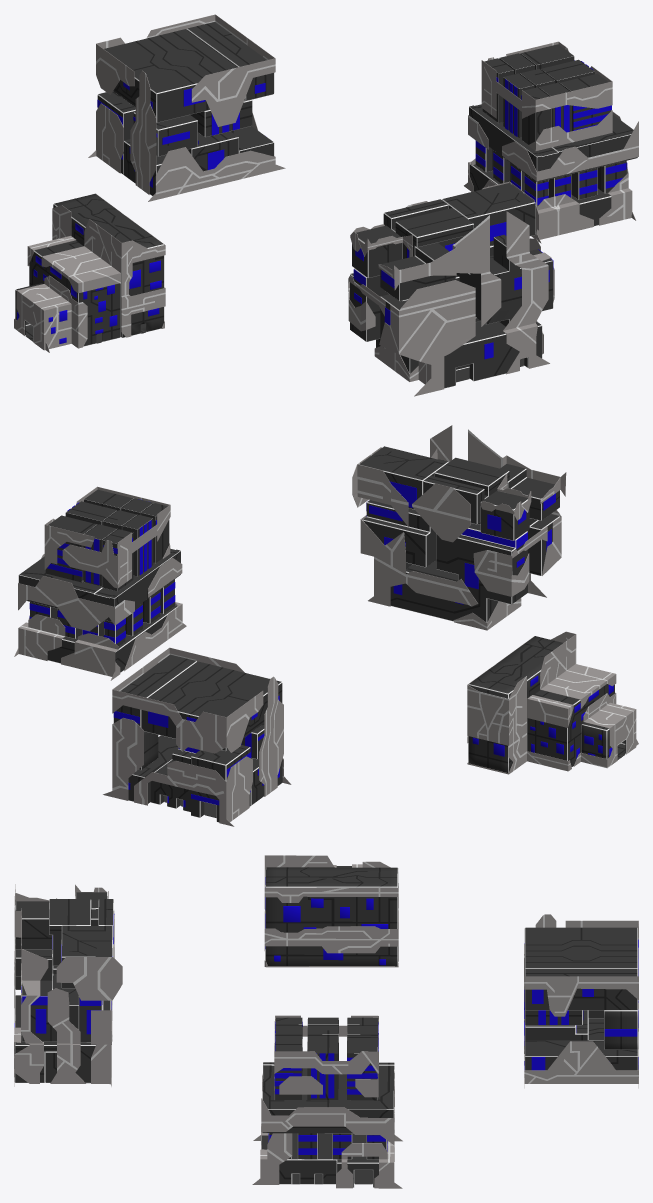
The model's file is Scifi_Buildings.fbx.
The picture shows the model from 3 angles, top to bottom: view 1: azimuth 30°, elevation 25°; view 2: azimuth 150°, elevation 25°; view 3: azimuth 270°, elevation 25°; orthographic projection. The views are drawn at different scales.
Visible parts, largest first — view 1: Layer3, Layer1, Layer1.002, Layer3.002, Layer1.001, Layer3.003, Layer3.001, Layer1.003, Layer2.001, Layer2.003, Layer2.002, Layer2; view 2: Layer1, Layer3, Layer3.002, Layer3.001, Layer1.002, Layer3.003, Layer1.001, Layer1.003, Layer2.001, Layer2, Layer2.002, Layer2.003; view 3: Layer1.002, Layer1.001, Layer3, Layer1, Layer3.001, Layer1.003, Layer3.002, Layer3.003, Layer2.001, Layer2.002, Layer2.003, Layer2.
Part boxes in pixels (left/top/right/bottom): Layer3: left=348, top=181, right=554, bottom=396; Layer1: left=350, top=183, right=553, bottom=388; Layer1.002: left=97, top=22, right=274, bottom=195; Layer3.002: left=88, top=14, right=285, bottom=201; Layer1.001: left=469, top=44, right=637, bottom=226; Layer3.003: left=14, top=194, right=165, bottom=352; Layer3.001: left=464, top=41, right=638, bottom=243; Layer1.003: left=15, top=193, right=164, bottom=346; Layer2.001: left=475, top=60, right=627, bottom=204; Layer2.003: left=17, top=223, right=161, bottom=343; Layer2.002: left=97, top=82, right=265, bottom=187; Layer2: left=353, top=222, right=553, bottom=359; Layer1: left=359, top=446, right=559, bottom=622; Layer3: left=352, top=425, right=566, bottom=630; Layer3.002: left=103, top=647, right=291, bottom=826; Layer3.001: left=14, top=486, right=186, bottom=680; Layer1.002: left=113, top=654, right=282, bottom=822; Layer3.003: left=467, top=631, right=638, bottom=774; Layer1.001: left=18, top=489, right=180, bottom=672; Layer1.003: left=468, top=636, right=625, bottom=772; Layer2.001: left=29, top=499, right=175, bottom=643; Layer2: left=366, top=481, right=555, bottom=604; Layer2.002: left=113, top=695, right=279, bottom=807; Layer2.003: left=472, top=675, right=613, bottom=758; Layer1.002: left=524, top=927, right=638, bottom=1070; Layer1.001: left=261, top=1017, right=394, bottom=1187; Layer3: left=14, top=884, right=122, bottom=1086; Layer1: left=14, top=892, right=113, bottom=1083; Layer3.001: left=252, top=1015, right=402, bottom=1188; Layer1.003: left=265, top=866, right=398, bottom=966; Layer3.002: left=524, top=914, right=638, bottom=1088; Layer3.003: left=264, top=855, right=398, bottom=967; Layer2.001: left=268, top=1022, right=387, bottom=1154; Layer2.002: left=524, top=939, right=638, bottom=1070; Layer2.003: left=265, top=877, right=388, bottom=965; Layer2: left=14, top=914, right=114, bottom=1034.
Size of the model in its own units: 17098 by 4465 by 16521.
